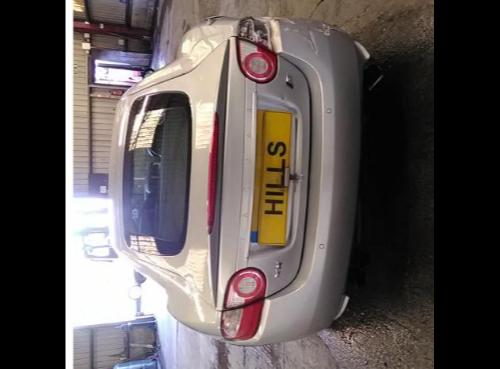Broken part: (244, 14, 370, 342), (238, 16, 272, 50)
Scratch: (304, 30, 318, 54), (316, 22, 330, 36), (284, 18, 294, 24), (292, 28, 300, 32), (284, 26, 290, 30), (308, 18, 310, 22)
